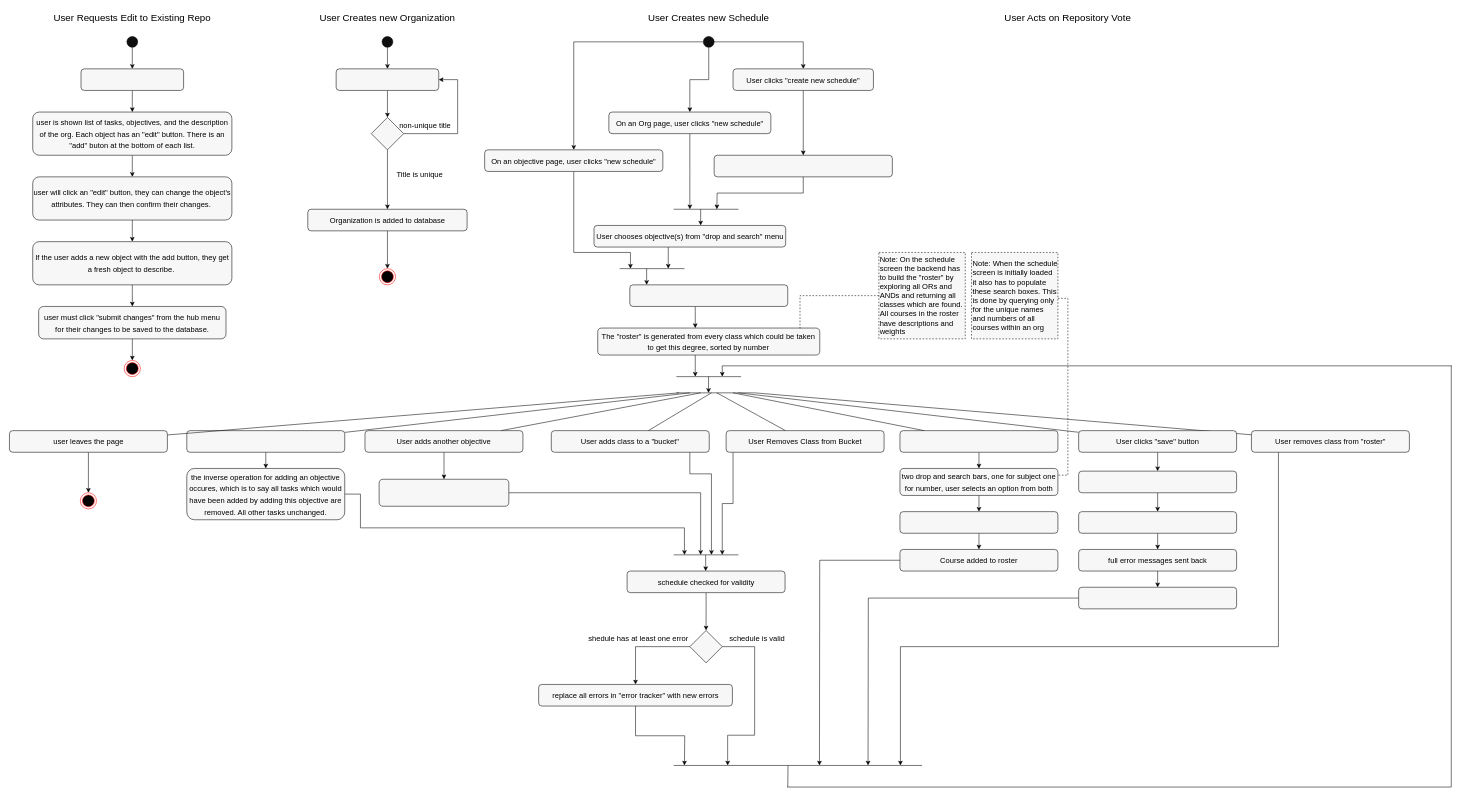
Image size: 1462x797. Some labels were removed from this diagram. Here are the shapes that lost their labels. From the top down, the centre of each, then its label:
pixel 132 79: user clicks edit button on org
pixel 387 79: Fills out information form
pixel 803 166: User chooses org from "drop and search" menu
pixel 708 295: User is taken to the "Create Schedule" page
pixel 265 441: User removes objective
pixel 978 441: User searchs class to add to "roster"
pixel 444 492: Relevant classes added to "roster", duplicates not allowed
pixel 1157 482: schedule sent to backend
pixel 978 522: User clicks "add" button
pixel 1157 522: backend checks validity
pixel 1157 598: schedule saved
